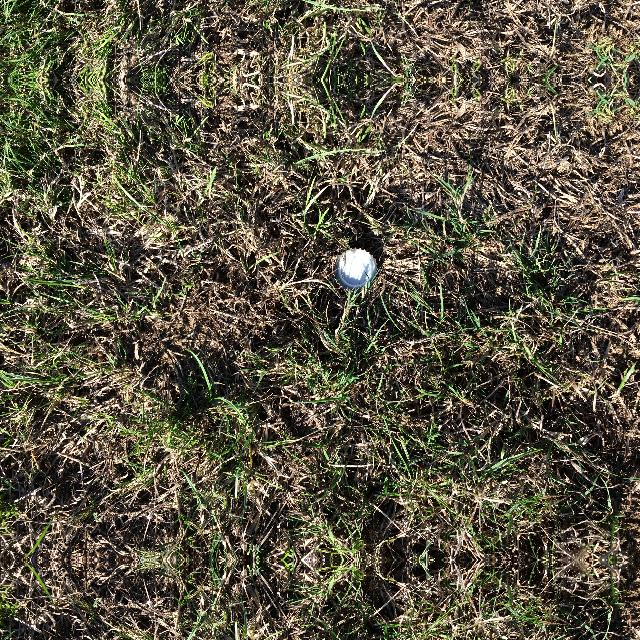Metal: (332, 245, 382, 292)
